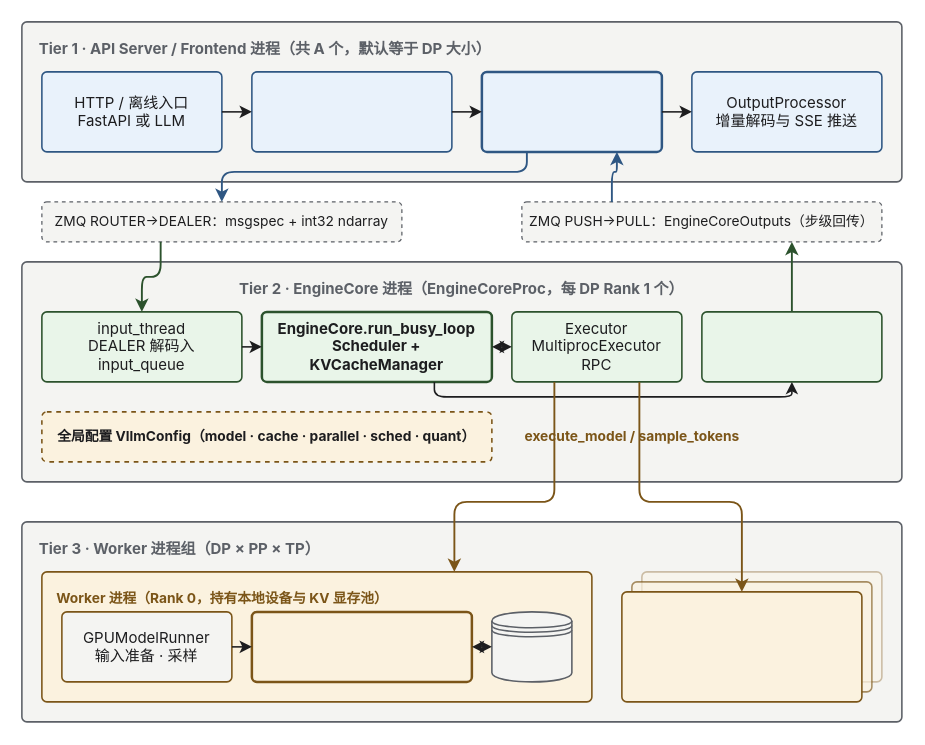
This 925x745 diagram has some shape labels left out. The shapes that lost their labels are listed below. From the top down, each one's centre as x and y in pixels, then its label:
At point 351,111: "AsyncLLM + InputProcessor 线程池分词与校验".
At point 571,111: "AsyncMPClient ROUTER 发 · PULL 收".
At point 791,346: "output_thread output_queue 推 PUSH".
At point 361,646: "nn.Module(vllm_config, prefix) 初始化阶段直接按 1/TP 分片".
At point 531,646: "KV Cache 物理块".
At point 741,646: "Worker Rank 1 .. N-1 各持 1/TP 权重分片与本地块池 NCCL / HCCL 集合通信同步".
